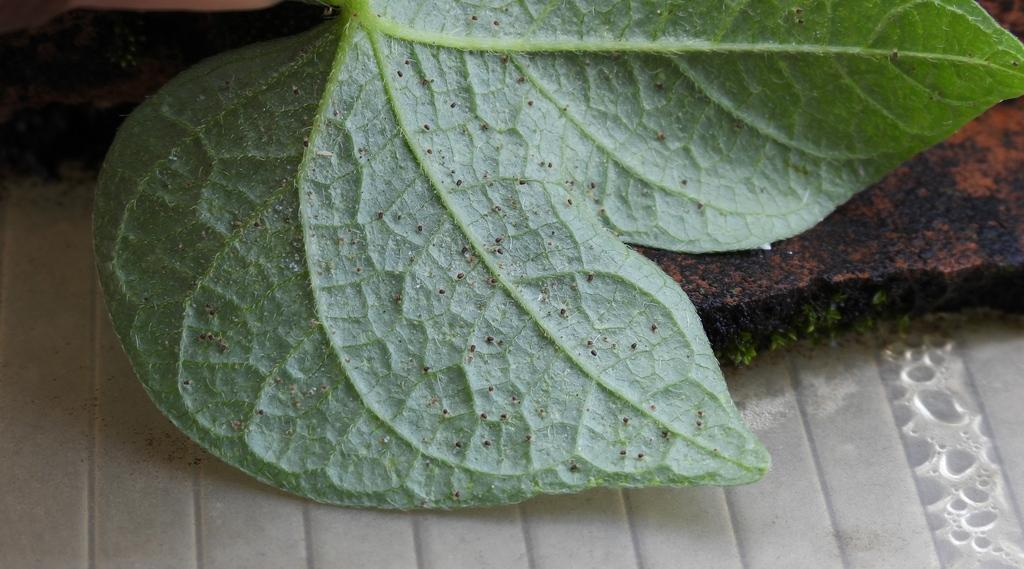tiny_pests: (429, 224, 518, 307), (478, 410, 512, 449), (466, 324, 506, 357), (194, 326, 233, 359), (582, 334, 604, 364)
